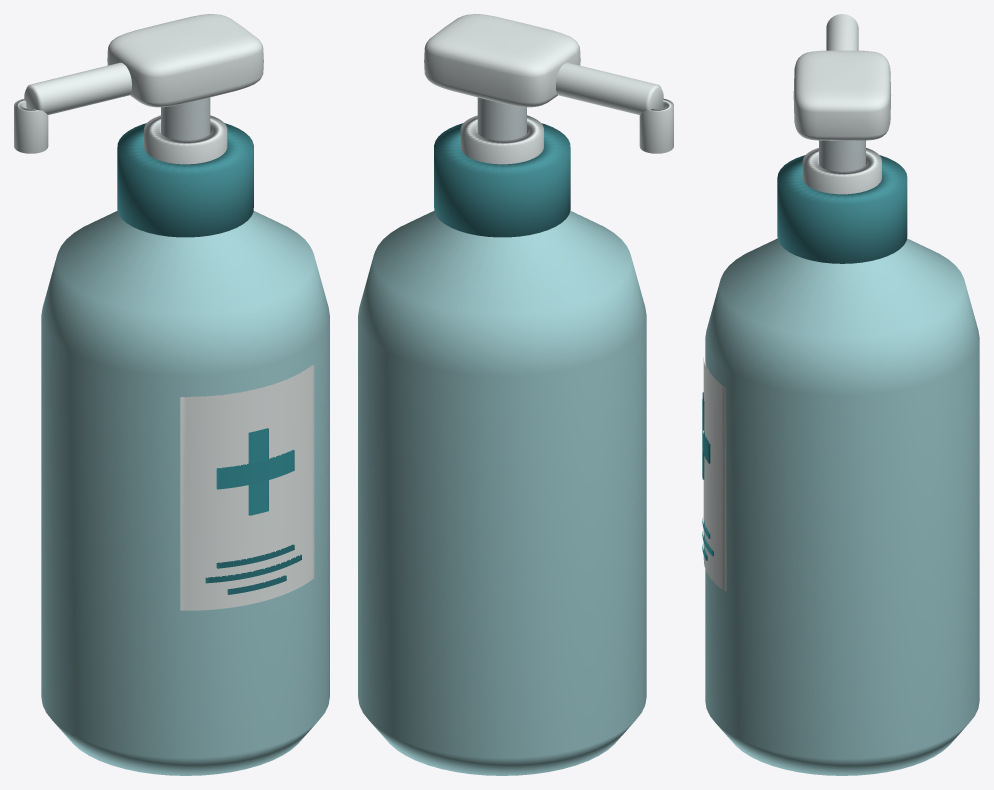
The model's file is hand_sanitizer.glb.
3 renders of one model, left to right at view 1: azimuth 30°, elevation 25°; view 2: azimuth 150°, elevation 25°; view 3: azimuth 270°, elevation 25°, orthographic. The views are drawn at different scales.
Parts seen in each view (by area): view 1: Bottle_Body, Front_Label, Pump_Collar, Pump_Head, Nozzle_Upper, Piston_Guide, Pump_Piston, Label_Cross_Horizontal, Nozzle_Downward_Outlet, Label_Cross_Top, Label_Cross_Bottom, Label_Line_1; view 2: Bottle_Body, Pump_Collar, Pump_Head, Nozzle_Upper, Piston_Guide, Pump_Piston, Nozzle_Downward_Outlet; view 3: Bottle_Body, Pump_Collar, Pump_Head, Front_Label, Piston_Guide, Pump_Piston, Nozzle_Upper.
Boxes of the visible parts, <box> form: Bottle_Body: <box>41,211,329,775</box>; Front_Label: <box>180,365,314,610</box>; Pump_Collar: <box>117,123,253,237</box>; Pump_Head: <box>107,14,263,107</box>; Nozzle_Upper: <box>24,62,132,114</box>; Piston_Guide: <box>144,115,227,164</box>; Pump_Piston: <box>161,97,210,140</box>; Label_Cross_Horizontal: <box>216,449,294,489</box>; Nozzle_Downward_Outlet: <box>14,99,48,153</box>; Label_Cross_Top: <box>248,428,268,464</box>; Label_Cross_Bottom: <box>248,480,268,515</box>; Label_Line_1: <box>205,554,301,583</box>; Bottle_Body: <box>358,211,646,775</box>; Pump_Collar: <box>434,123,570,237</box>; Pump_Head: <box>424,14,580,107</box>; Nozzle_Upper: <box>555,62,663,114</box>; Piston_Guide: <box>460,115,543,164</box>; Pump_Piston: <box>477,97,526,140</box>; Nozzle_Downward_Outlet: <box>639,99,673,153</box>; Bottle_Body: <box>705,238,979,775</box>; Pump_Collar: <box>777,155,907,263</box>; Pump_Head: <box>793,50,891,140</box>; Front_Label: <box>703,358,726,591</box>; Piston_Guide: <box>802,148,881,194</box>; Pump_Piston: <box>819,140,865,171</box>; Nozzle_Upper: <box>826,14,858,50</box>.
Bounding box in the file's own units: 0.0895 × 0.2 × 0.0768.
